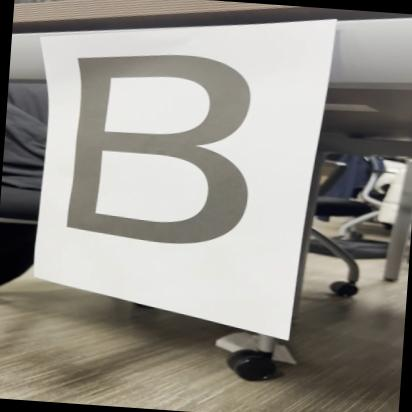seat: (50, 38, 302, 269)
